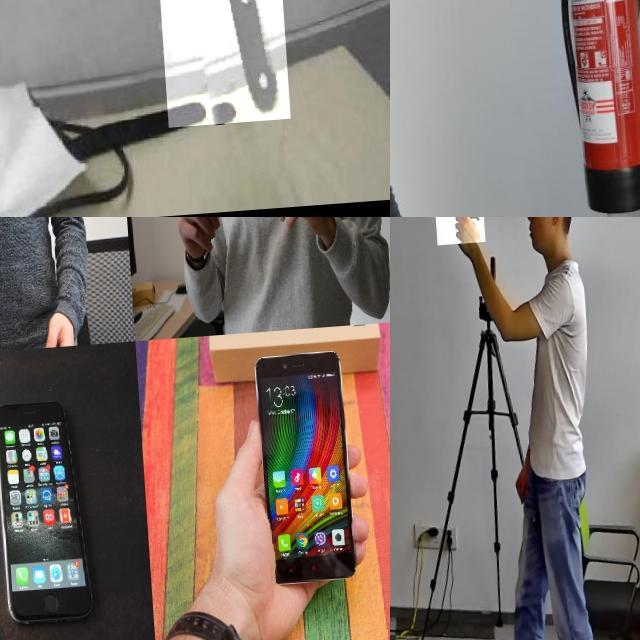-: (133, 0, 283, 217), (390, 160, 428, 216)
gun-knife-thesis - v11 Yolov5 augmented: (430, 217, 483, 262)
